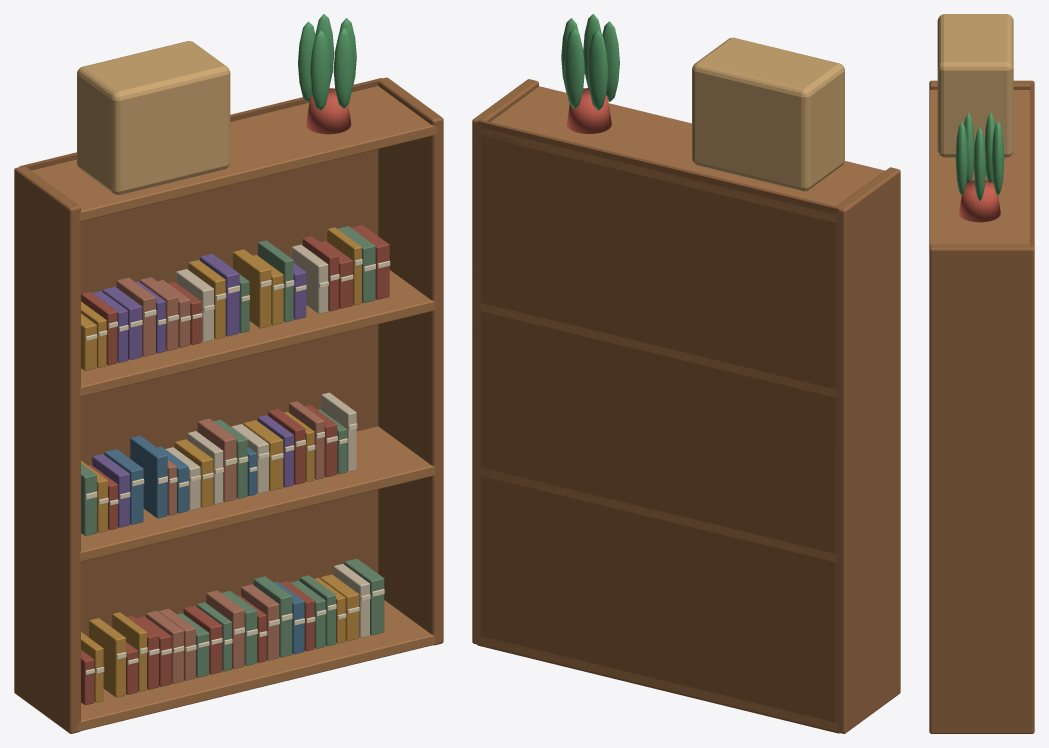
Rendered from bookshelf.glb.
The picture shows the model from 3 angles, left to right: view 1: azimuth 30°, elevation 25°; view 2: azimuth 150°, elevation 25°; view 3: azimuth 270°, elevation 25°; orthographic projection. The views are drawn at different scales.
Visible parts, largest first — view 1: back, side, side.001, wicker, shelf.003, shelf.001, shelf, shelf.002, book.030, book.062, book.002, book.066 (+57 smaller); view 2: back, side, wicker, shelf.003, side.001, shelf, shelf.002, shelf.001, pot, leaf.003, leaf.004, leaf.002; view 3: side.001, wicker, shelf.003, pot, back, leaf, leaf.001, leaf.004, leaf.003, leaf.002, side.
Boxes of the visible parts, x1,y1,x2,y2 form: back: (19, 78, 383, 637); side: (14, 166, 80, 733); side.001: (378, 77, 443, 645); wicker: (77, 41, 230, 194); shelf.003: (31, 86, 437, 221); shelf.001: (77, 426, 437, 561); shelf: (77, 600, 437, 731); shelf.002: (77, 270, 436, 396); book.030: (130, 435, 167, 518); book.062: (233, 249, 271, 328); book.002: (89, 618, 125, 697); book.066: (291, 244, 328, 313); back: (477, 119, 840, 733); side: (835, 167, 900, 733); wicker: (692, 37, 844, 191); shelf.003: (478, 86, 884, 222); side.001: (472, 79, 538, 644); shelf: (481, 636, 837, 731); shelf.002: (478, 303, 837, 397); shelf.001: (481, 467, 837, 562); pot: (566, 88, 611, 133); leaf.003: (587, 30, 608, 110); leaf.004: (564, 28, 584, 108); leaf.002: (602, 21, 619, 101); side.001: (929, 244, 1034, 733); wicker: (937, 14, 1013, 157); shelf.003: (929, 89, 1030, 245); pot: (959, 180, 1000, 222); back: (1030, 82, 1034, 247); leaf: (973, 127, 986, 201); leaf.001: (955, 121, 968, 195); leaf.004: (991, 121, 1004, 195); leaf.003: (985, 112, 995, 182); leaf.002: (964, 112, 974, 182); side: (929, 80, 1034, 89).
Size of the model in its own units: 1.9 by 3.03 by 0.5.
